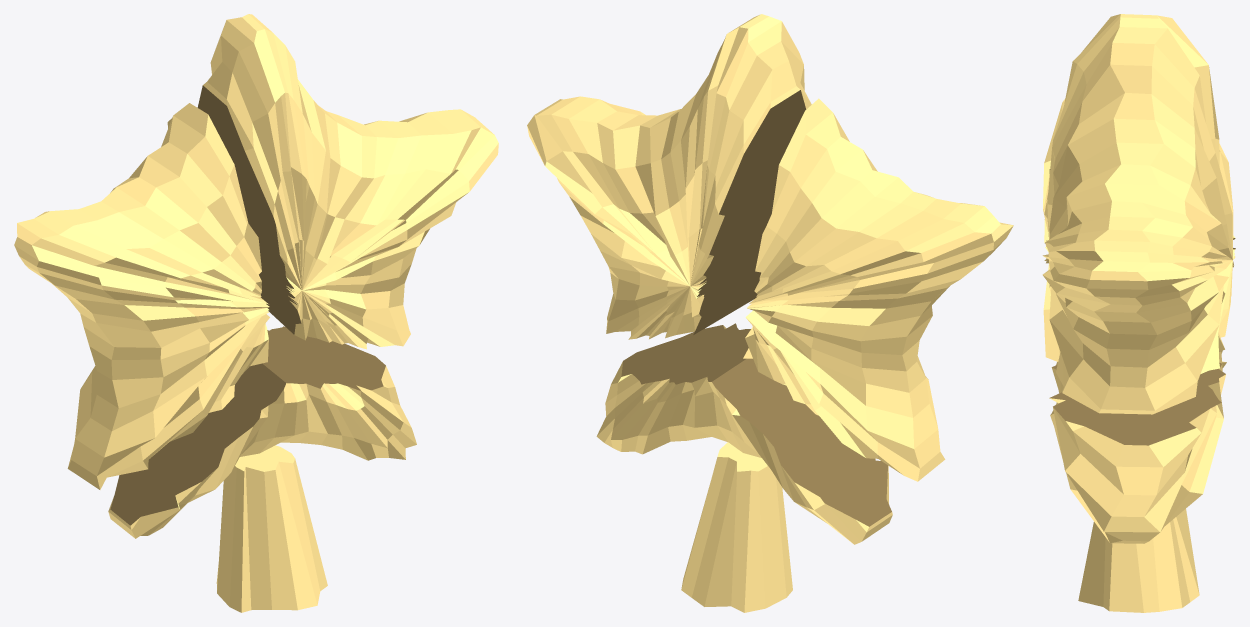
File: Pieza_EstrellaRota.glb
3 renders of one model, left to right at view 1: azimuth 30°, elevation 25°; view 2: azimuth 150°, elevation 25°; view 3: azimuth 270°, elevation 25°, orthographic.
Visible parts, largest first — view 1: Pieza_EstrellaRota; view 2: Pieza_EstrellaRota; view 3: Pieza_EstrellaRota.
Boxes of the visible parts, x1,y1,x2,y2 form: Pieza_EstrellaRota: (14, 14, 498, 612); Pieza_EstrellaRota: (527, 14, 1013, 612); Pieza_EstrellaRota: (1042, 14, 1235, 612).
Size of the model in its own units: 0.4634 by 0.5487 by 0.1679.
